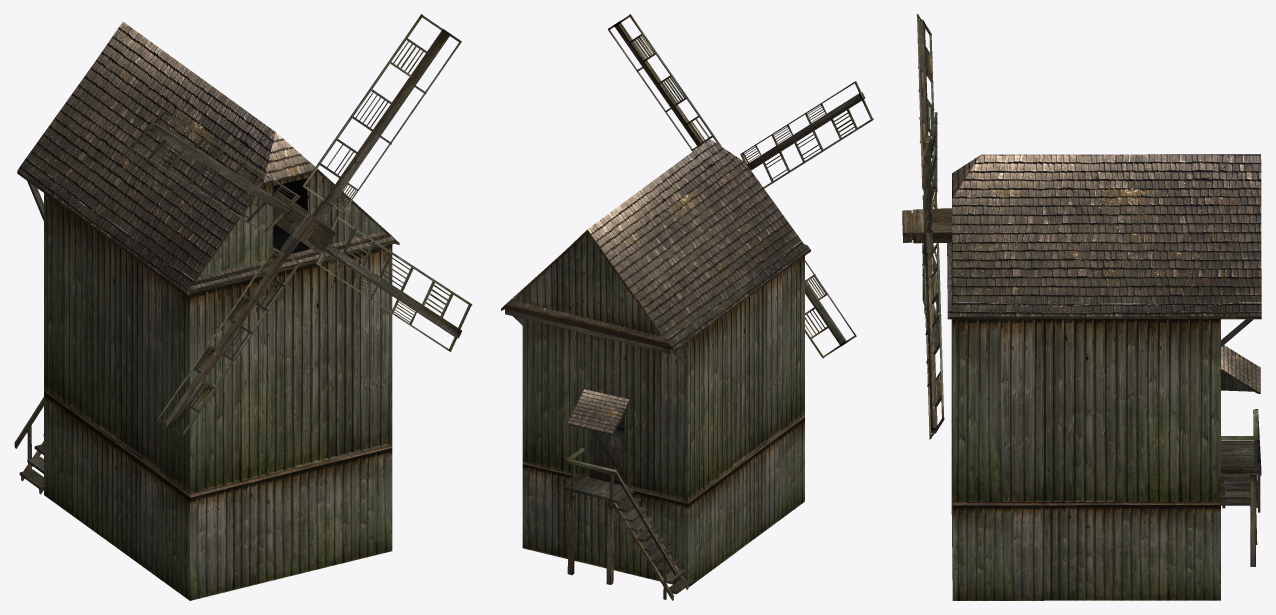
Rendered from natalin.fbx.
The picture shows the model from 3 angles, left to right: view 1: azimuth 30°, elevation 25°; view 2: azimuth 150°, elevation 25°; view 3: azimuth 270°, elevation 25°; orthographic projection. The views are drawn at different scales.
Parts seen in each view (by area): view 1: natalin; view 2: natalin; view 3: natalin.
Boxes of the visible parts, x1,y1,x2,y2 form: natalin: (14,14,472,600); natalin: (501,14,873,600); natalin: (902,14,1261,600).
Size of the model in its own units: 442 by 650 by 425.
